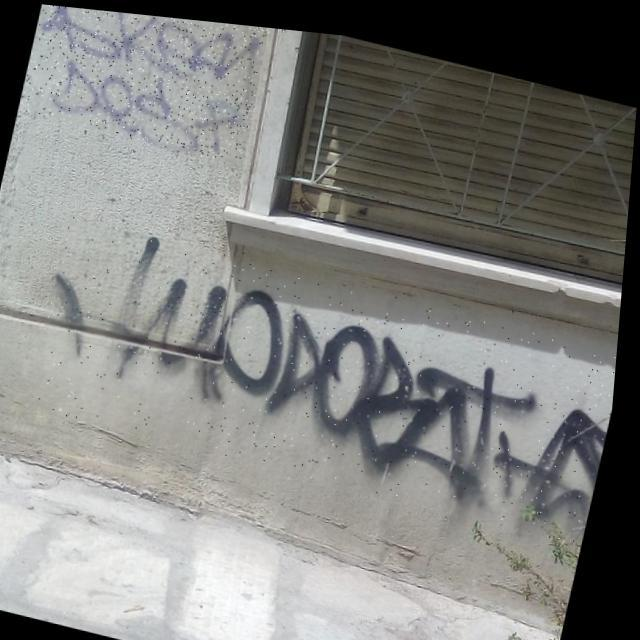-: (26, 212, 626, 532), (17, 2, 271, 161)
